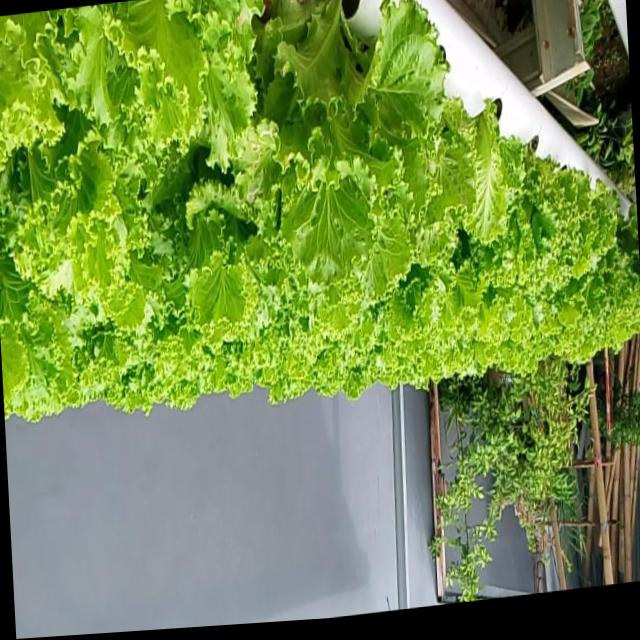Mature: (0, 0, 640, 436), (271, 0, 465, 291), (492, 127, 634, 337)
